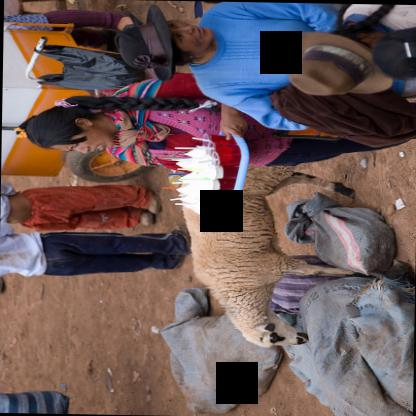handbag: (0, 388, 72, 414), (245, 126, 342, 142)
